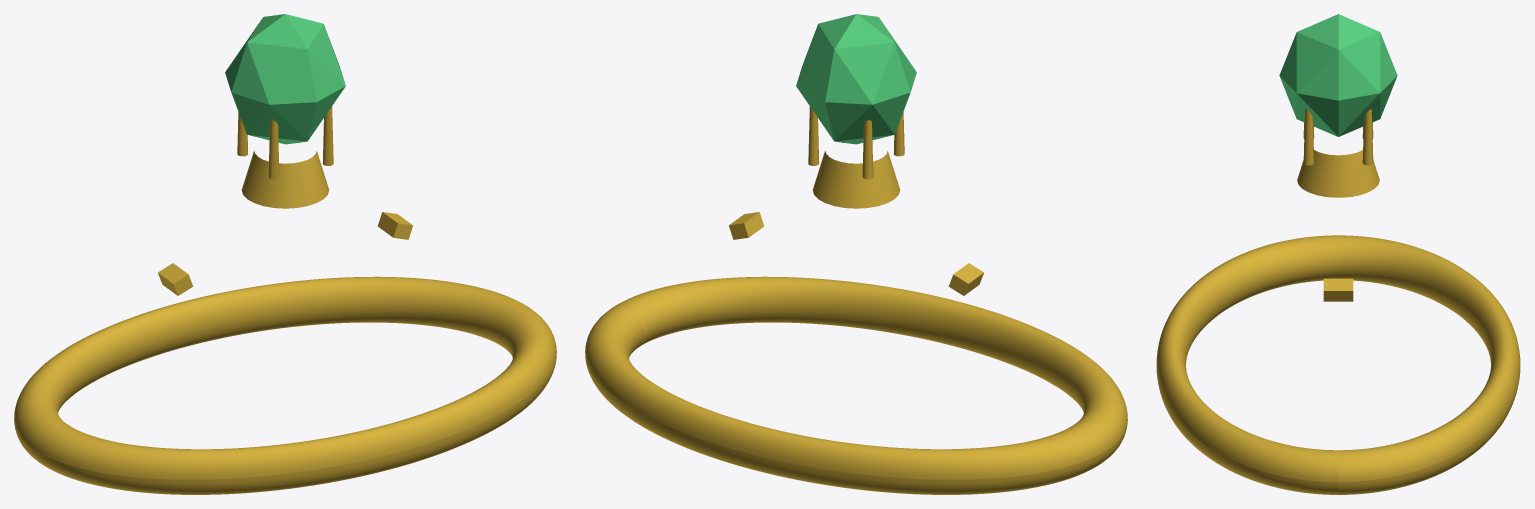
Rendered from ring-emerald.glb.
3 views of the same model, side by side, from view 1: azimuth 30°, elevation 25°; view 2: azimuth 150°, elevation 25°; view 3: azimuth 270°, elevation 25° (orthographic). The views are drawn at different scales.
Bounding box in the file's own units: 1.87 × 1.39 × 1.23.
